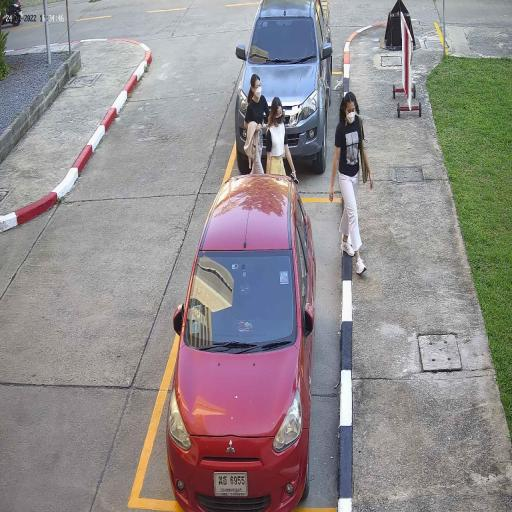car: (166, 175, 315, 511), (236, 0, 332, 170)
